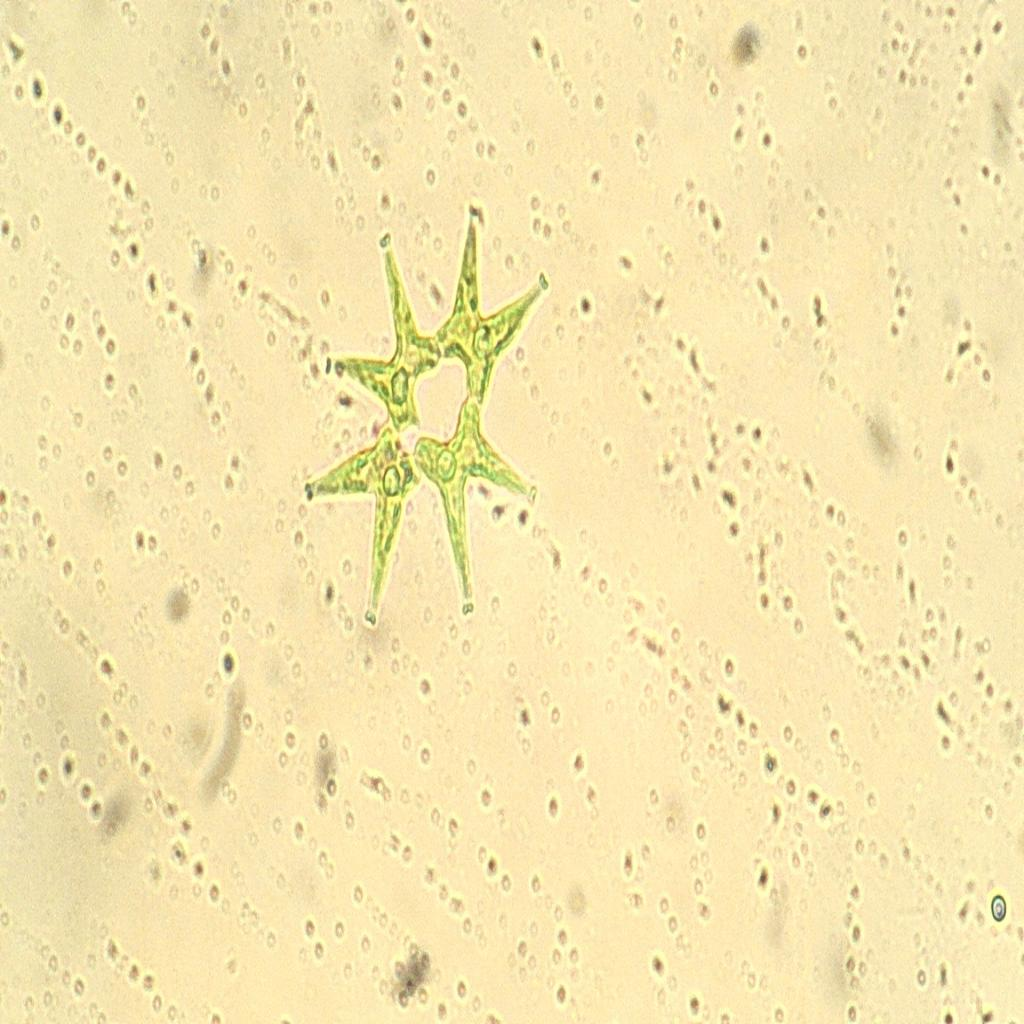Pediastrum_75FO: (294, 186, 558, 657)
